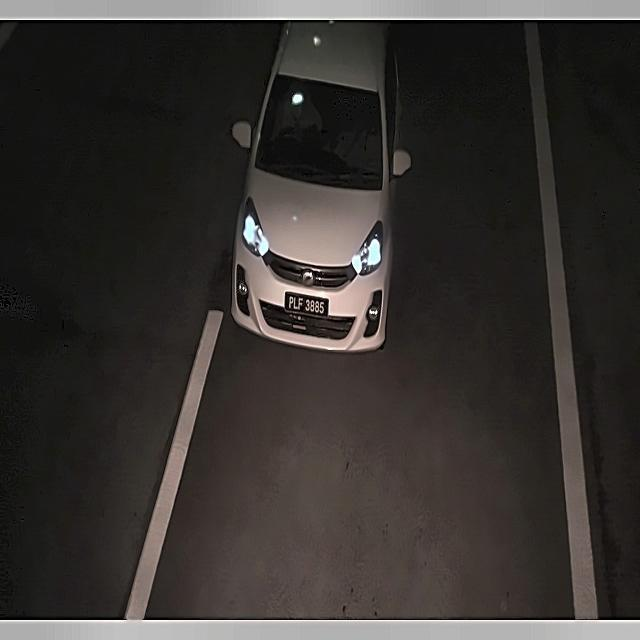car: (283, 286, 331, 329)
